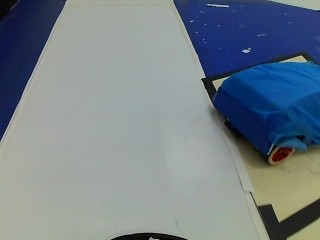car: (210, 57, 320, 165)
